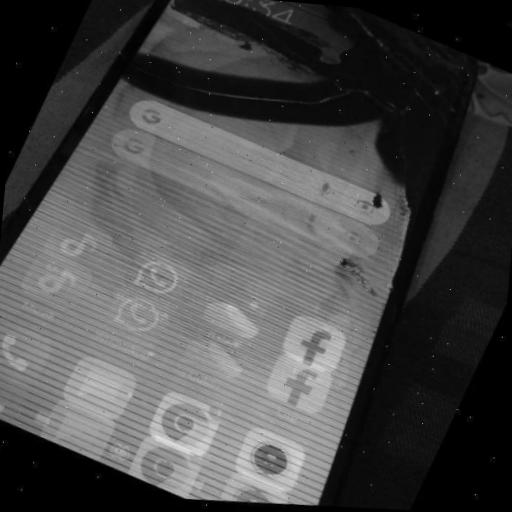phone: (0, 0, 484, 506)
